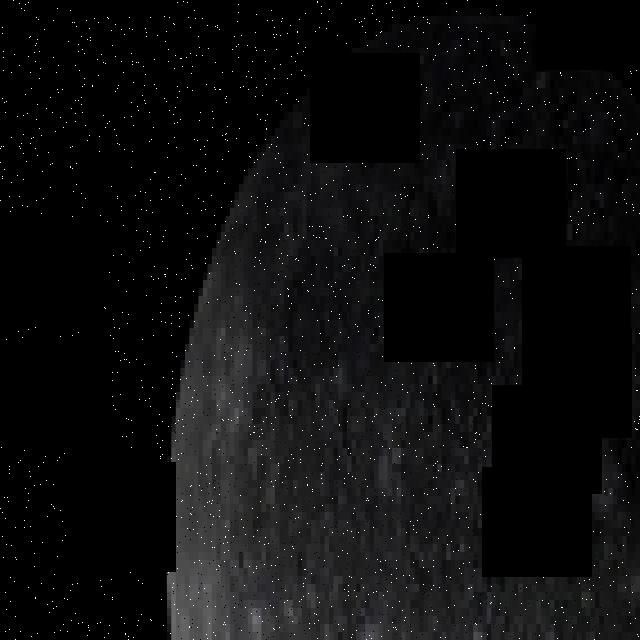Mercury: (167, 8, 640, 640)
